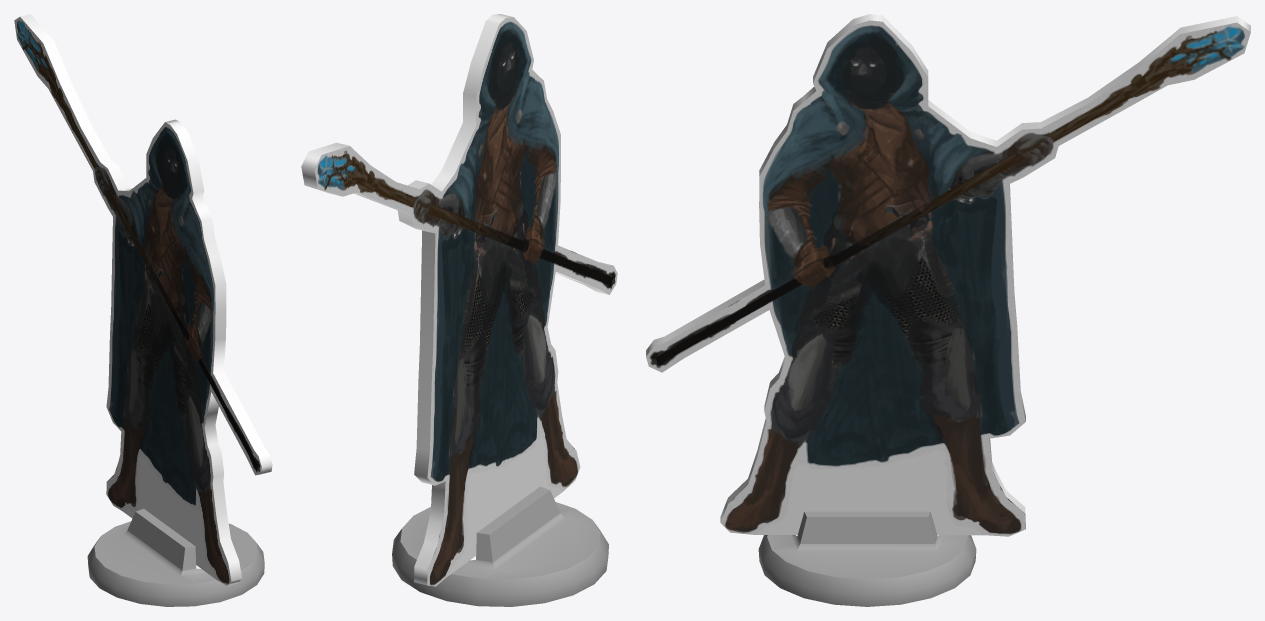
The model's file is mage.fbx.
The picture shows the model from 3 angles, left to right: view 1: azimuth 30°, elevation 25°; view 2: azimuth 150°, elevation 25°; view 3: azimuth 270°, elevation 25°; orthographic projection. The views are drawn at different scales.
Visible parts, largest first — view 1: mage, pion; view 2: mage, pion; view 3: mage, pion.
Part boxes in pixels (bbox=[...]): mage: bbox=[14, 14, 272, 585]; pion: bbox=[87, 508, 264, 606]; mage: bbox=[301, 14, 617, 586]; pion: bbox=[392, 486, 608, 606]; mage: bbox=[646, 14, 1250, 536]; pion: bbox=[758, 511, 976, 606].
Bounding box in the file's own units: 1.98 × 5.46 × 5.5.
2 materials, 1 textured.
